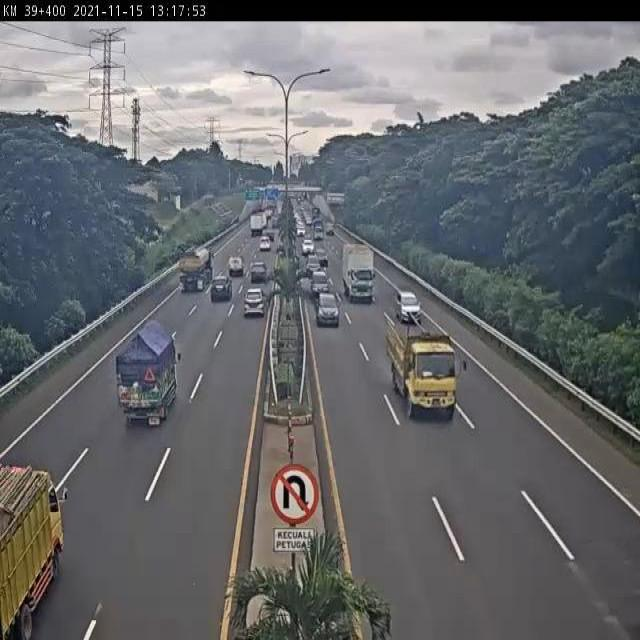car: (313, 288, 341, 328), (394, 289, 423, 327), (243, 286, 265, 318), (208, 274, 233, 302), (249, 260, 267, 287)
truck-m-: (386, 324, 458, 424), (115, 319, 182, 424), (340, 240, 377, 305)
truck-xl-: (178, 244, 215, 293)
